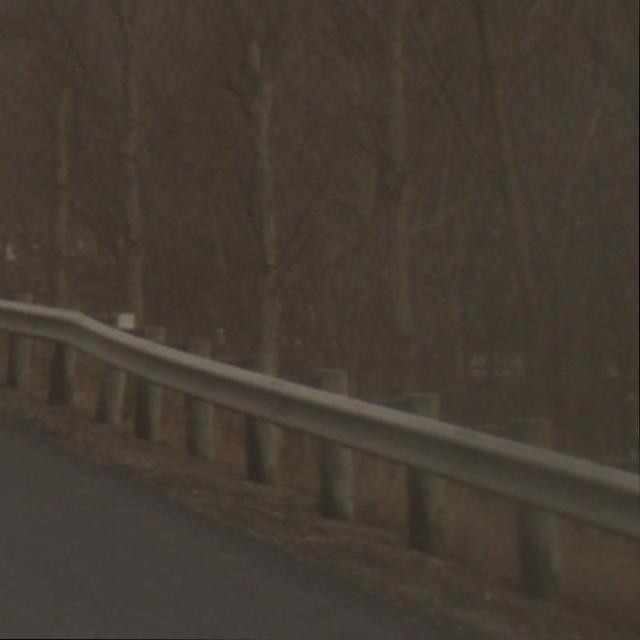Guard rail: (0, 292, 640, 613)
